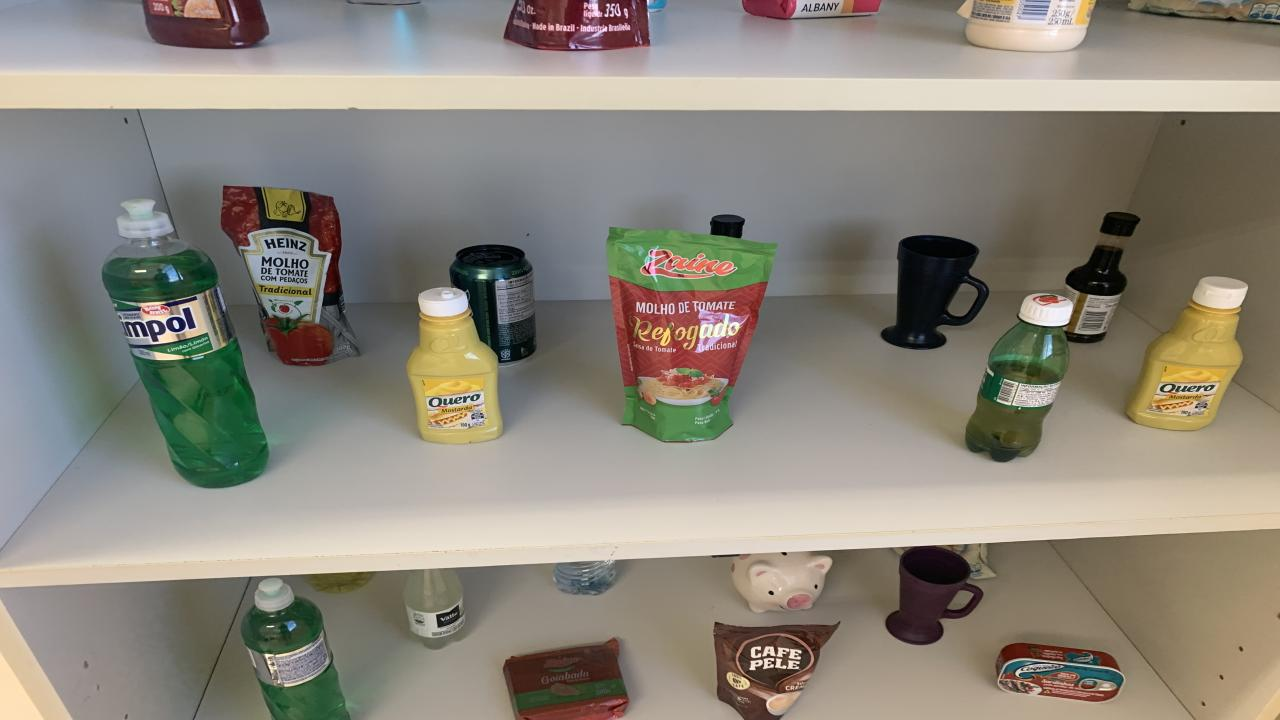Coffee-Pantry_Items: (712, 622, 840, 720)
Detergent-Cleanup_Items: (102, 199, 268, 488), (242, 578, 350, 720)
English_Sauce-Pantry_Items: (1065, 212, 1140, 343), (710, 214, 745, 238)
Flakes-Snacks: (1130, 0, 1280, 24), (938, 544, 998, 579), (892, 548, 910, 553)
Guarana-Drinks: (965, 292, 1072, 461)
Guarana_Can-Drinks: (450, 246, 535, 362)
Guava-Snacks: (502, 638, 630, 720)
Ketchup-Pantry_Items: (142, 0, 270, 49)
Mayonnaise-Pantry_Items: (958, 0, 1095, 52)
Mustard-Pantry_Items: (1125, 278, 1248, 429), (408, 287, 502, 444)
Pig_Safe-Miscellaneous: (730, 551, 832, 613)
Soap-Cleanup_Items: (742, 0, 882, 19)
Soda-Drinks: (402, 568, 465, 649)
Tomato_Sauce-Pantry_Items: (608, 227, 778, 442), (220, 186, 360, 366), (505, 0, 650, 51)
Tuna_Can-Pantry_Items: (995, 643, 1125, 701)
Water_Bottle-Drinks: (552, 561, 618, 594)
